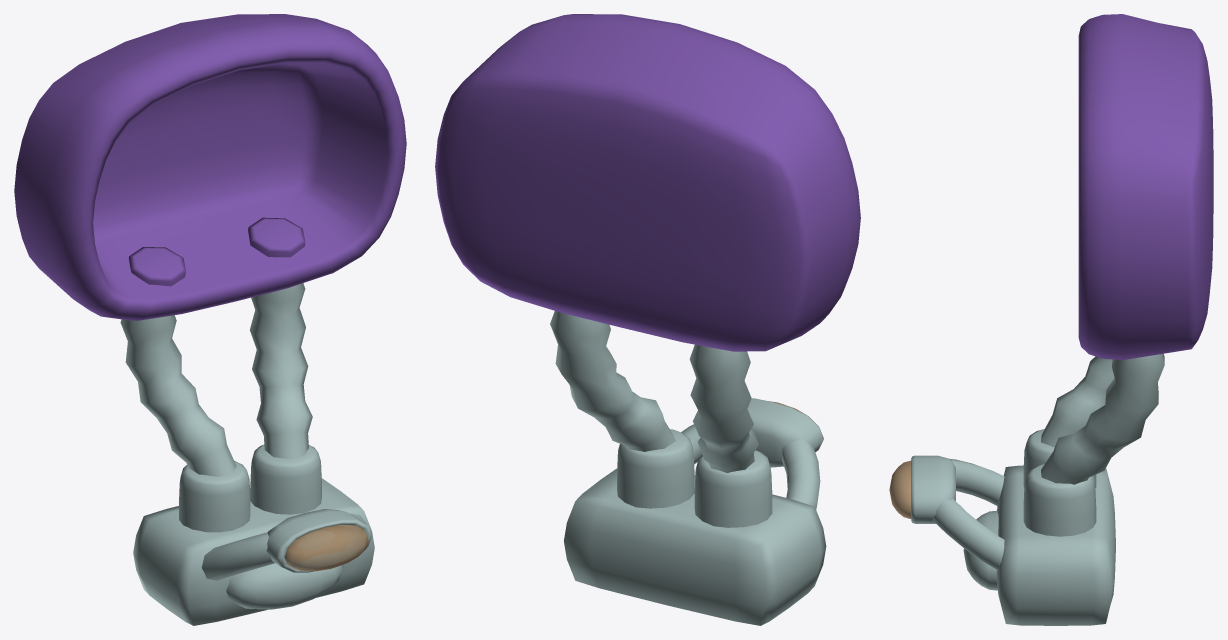
Rendered from Appliance_PillCatcher_Alpha.fbx.
3 renders of one model, left to right at view 1: azimuth 30°, elevation 25°; view 2: azimuth 150°, elevation 25°; view 3: azimuth 270°, elevation 25°, orthographic. The views are drawn at different scales.
Visible parts, largest first — view 1: Net, Base, Pill; view 2: Net, Base; view 3: Net, Base, Pill.
Part boxes in pixels (x1,y1,x2,y2): Net: (14, 14, 406, 320); Base: (120, 283, 374, 625); Pill: (284, 524, 368, 571); Net: (435, 14, 860, 351); Base: (550, 311, 826, 625); Net: (1078, 14, 1213, 360); Base: (911, 353, 1164, 625); Pill: (889, 460, 911, 518).
Size of the model in its own units: 225 by 331 by 180.
